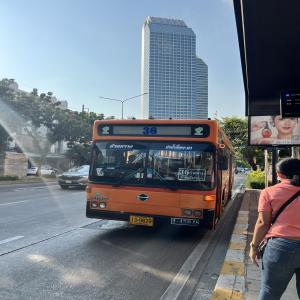BMTA-bus: (85, 119, 234, 229)
Bus Line Number: (140, 125, 159, 136)
Bus Side Number: (170, 218, 201, 226)
Destination Sign: (177, 168, 207, 182)
